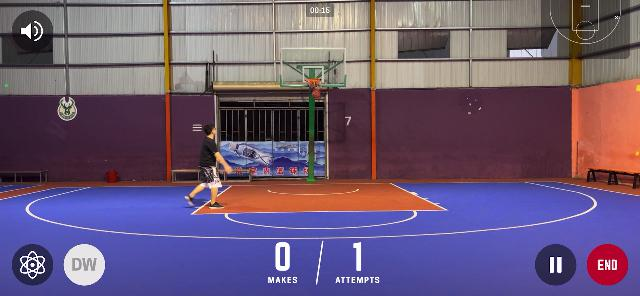basket: (304, 78, 322, 98)
goal: (312, 88, 321, 98)
